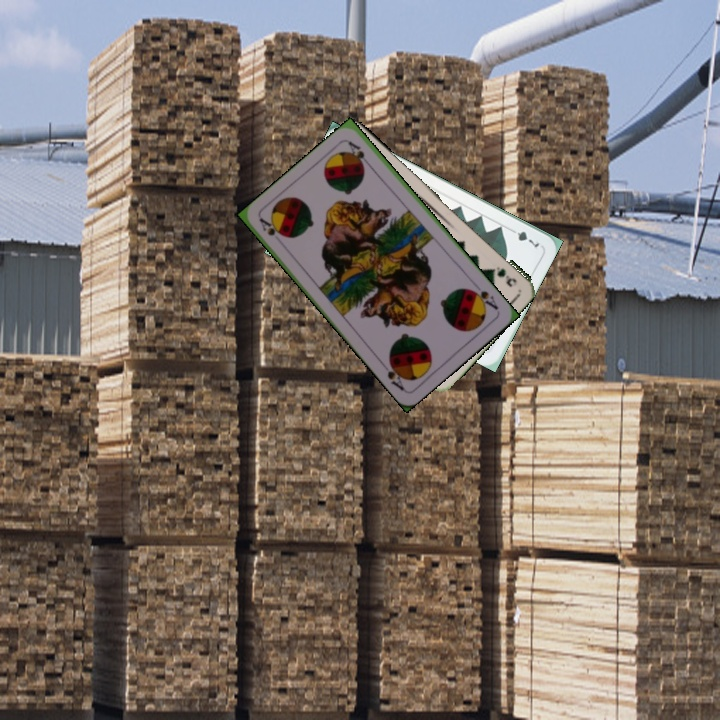G7: (505, 225, 542, 250)
G9: (486, 262, 519, 290)
SA: (465, 285, 501, 312), (255, 214, 286, 240)
